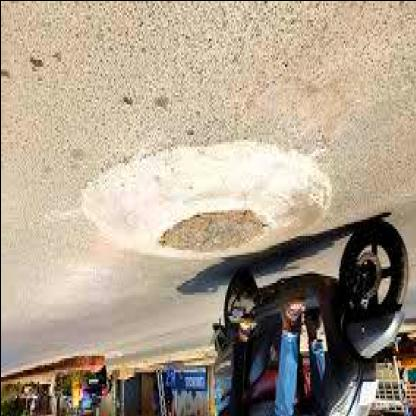manholes: (146, 195, 270, 263)
